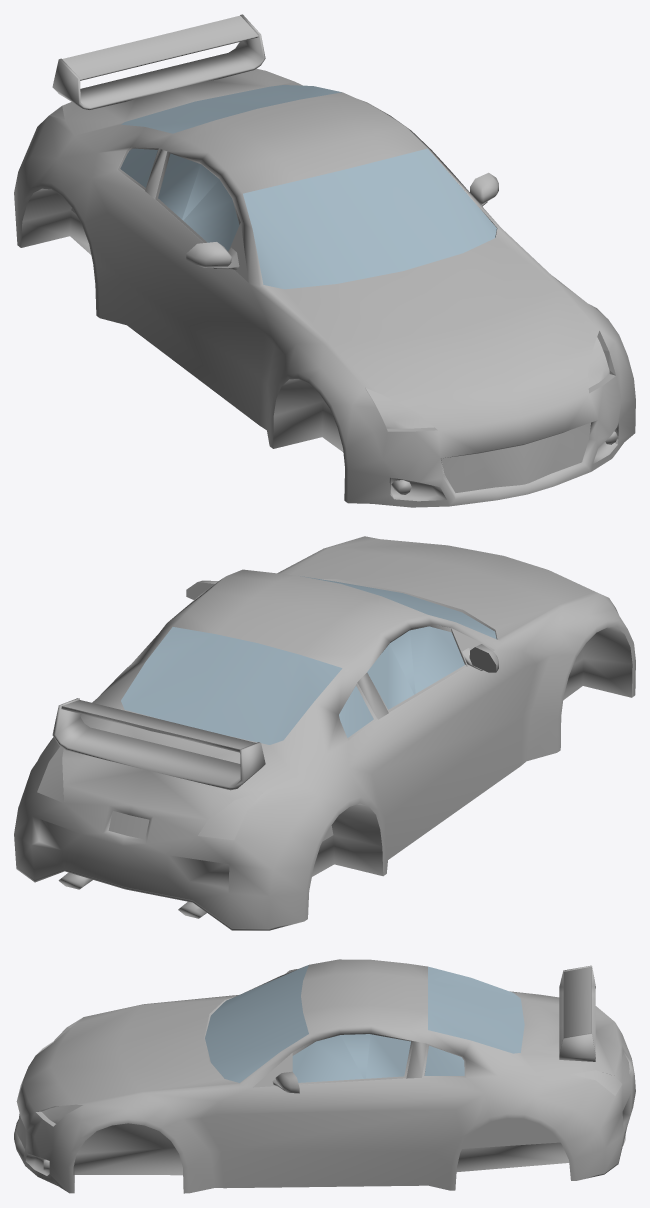
The model's file is Car_7_LOD1.FBX.
3 views of the same model, one above another, from view 1: azimuth 30°, elevation 25°; view 2: azimuth 150°, elevation 25°; view 3: azimuth 270°, elevation 25° (orthographic). The views are drawn at different scales.
Parts seen in each view (by area): view 1: Body_7, Glass_7, Matte_7; view 2: Body_7, Glass_7, Matte_7, Taillights_7; view 3: Body_7, Glass_7, Matte_7, Taillights_7.
Part boxes in pixels (bbox=[...]): Body_7: bbox=[14, 14, 635, 507]; Glass_7: bbox=[120, 85, 496, 289]; Matte_7: bbox=[21, 147, 618, 501]; Body_7: bbox=[14, 536, 635, 928]; Glass_7: bbox=[121, 576, 496, 744]; Matte_7: bbox=[16, 579, 632, 930]; Taillights_7: bbox=[37, 746, 265, 840]; Body_7: bbox=[14, 959, 635, 1193]; Glass_7: bbox=[205, 965, 524, 1082]; Matte_7: bbox=[17, 997, 629, 1190]; Taillights_7: bbox=[570, 1070, 622, 1095].
Size of what is drawn, in the model's own units: 1.94 by 1.18 by 4.4.
